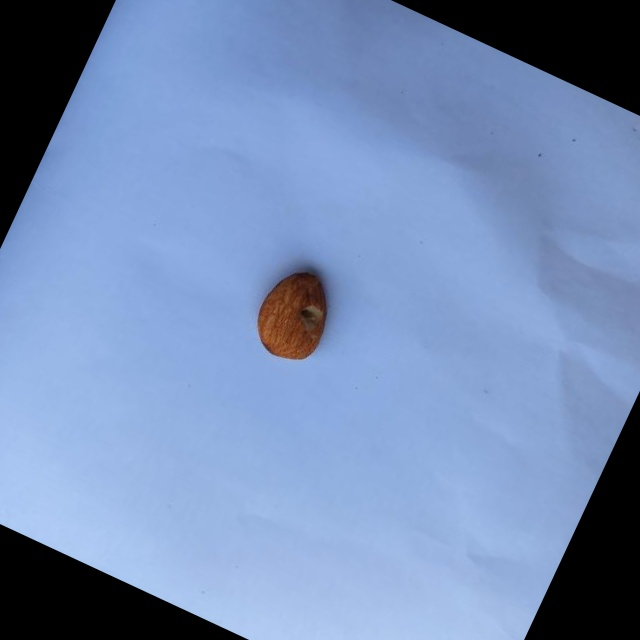grade3: (241, 255, 351, 376)
